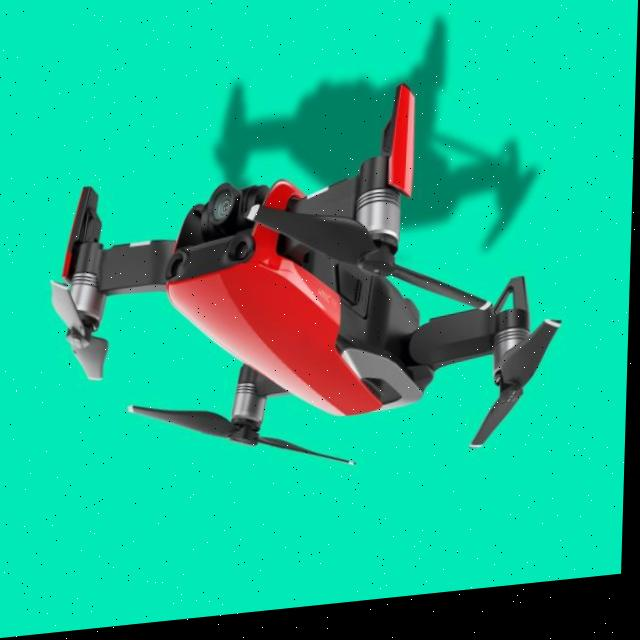drones: (40, 45, 593, 525)
